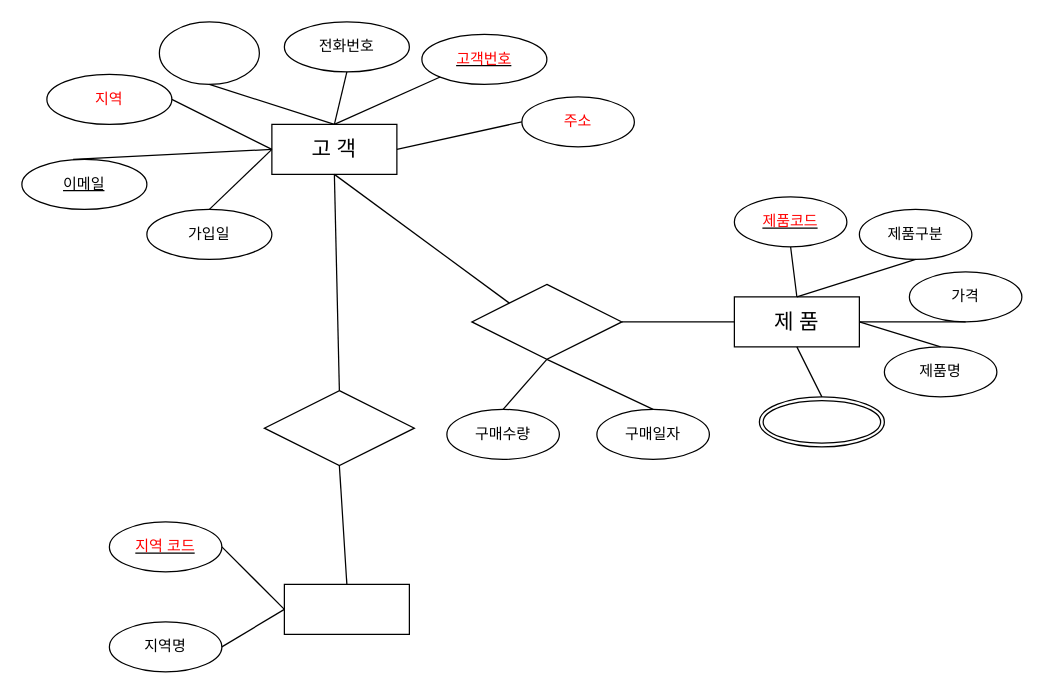
This 1044x694 diagram has some shape labels left out. The centre of each missing label's shape, as x and y in pixels:
"고객명" goes at pixel 208 52.
"관리" goes at pixel 338 427.
"구매" goes at pixel 546 321.
"제품색상" goes at pixel 821 421.
"지 역" goes at pixel 346 608.
